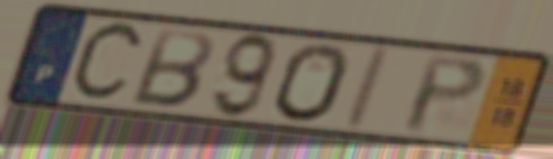9: (209, 30, 279, 122)
B: (126, 25, 216, 111)
C: (65, 18, 149, 108)
I: (337, 43, 396, 134)
O: (270, 41, 353, 126)
P: (400, 53, 490, 137)
